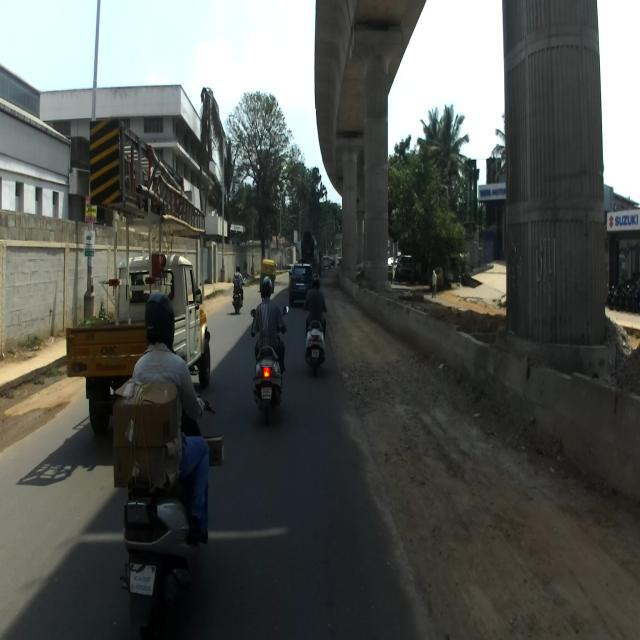motorcycle ahead at: (118, 493, 223, 617), (246, 337, 288, 413), (297, 312, 333, 368)
